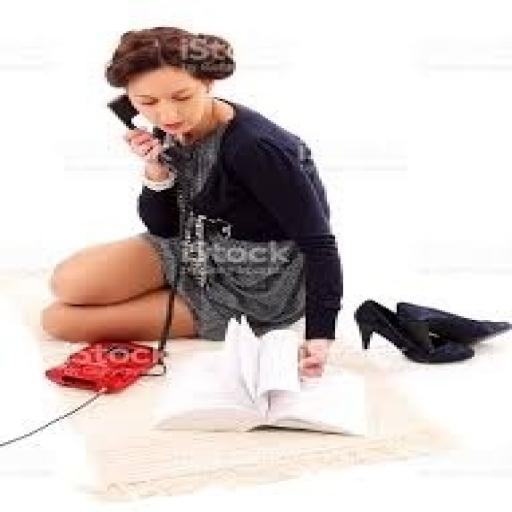calling: (37, 23, 346, 384)
